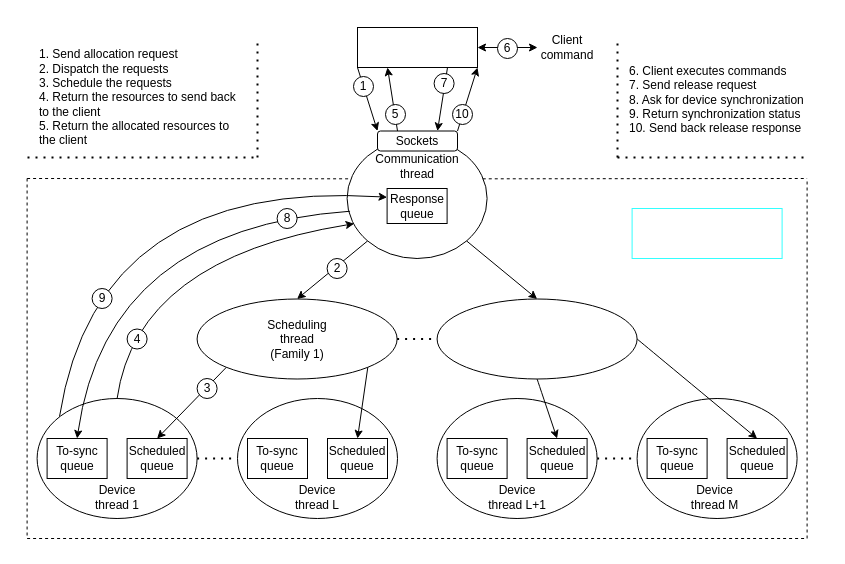
The diagram is 845 pixels wide and 564 high, and some of its shapes have lost their labels. Each missing label, with the centre of its shape:
"CLIENTS" belongs at pixel 417 47.
"Local Resource Scheduler" belongs at pixel 706 233.
"Scheduling thread (Family N)" belongs at pixel 536 338.
